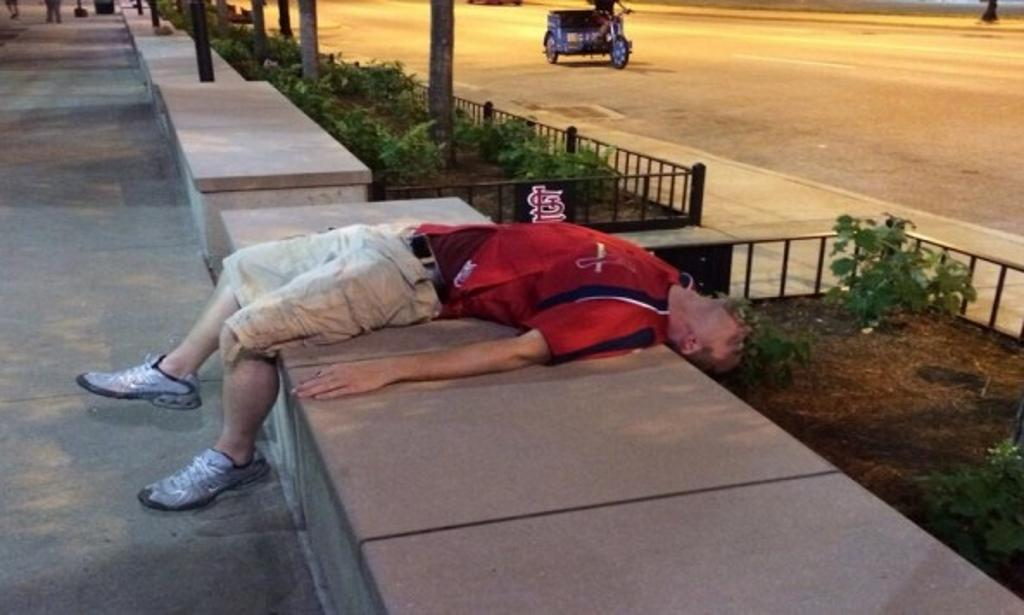face: (680, 292, 756, 376)
